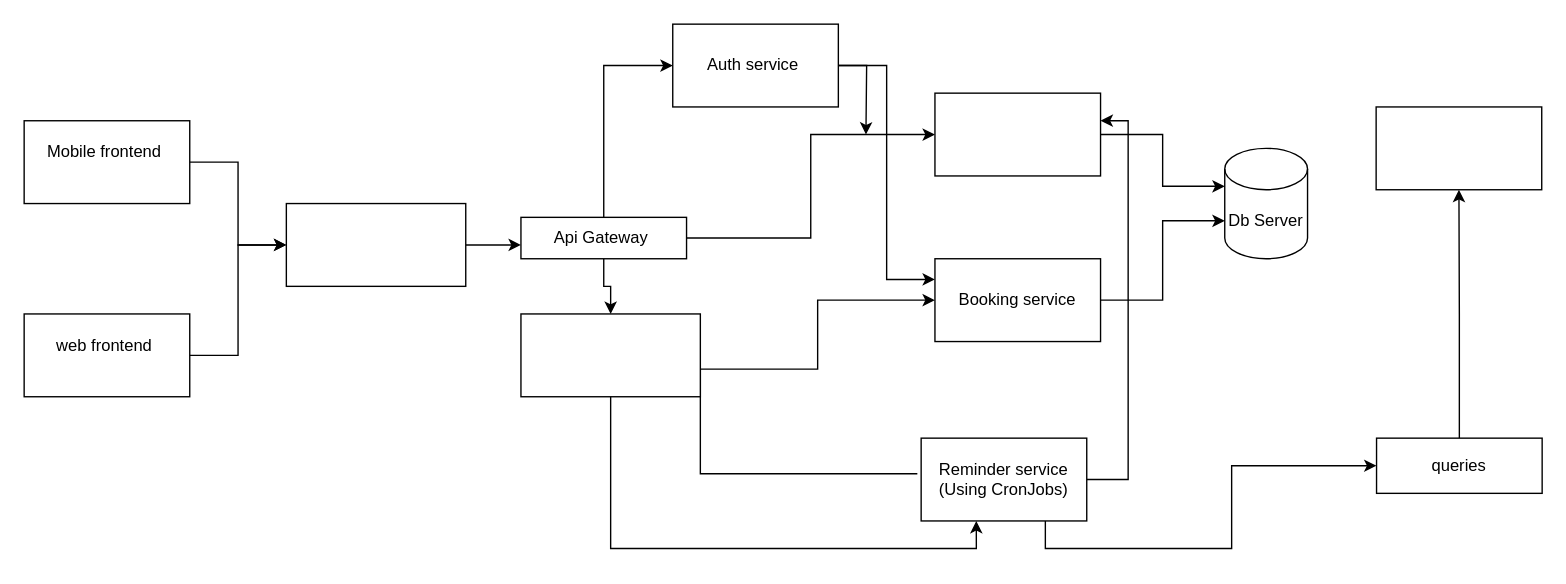
Image size: 1566x584. Some labels were removed from this diagram. The shapes that lost their labels are listed below. From the top down, each one's centre as x and y in pixels, then its label:
point 1017,134: Search Service
point 1458,148: Gmail's , email service
point 375,244: Load Balancer
point 610,355: Orchestration layer service
